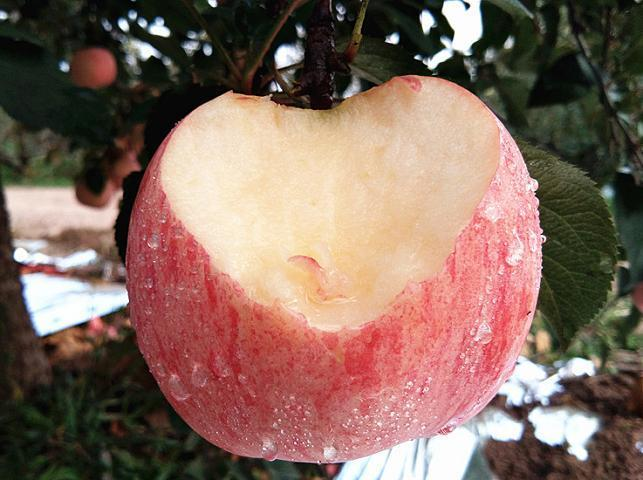apple: (127, 76, 538, 462)
